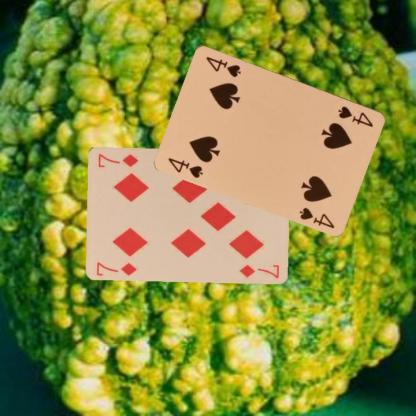4s: (336, 103, 375, 128), (166, 155, 204, 179)
7d: (94, 259, 138, 276)
